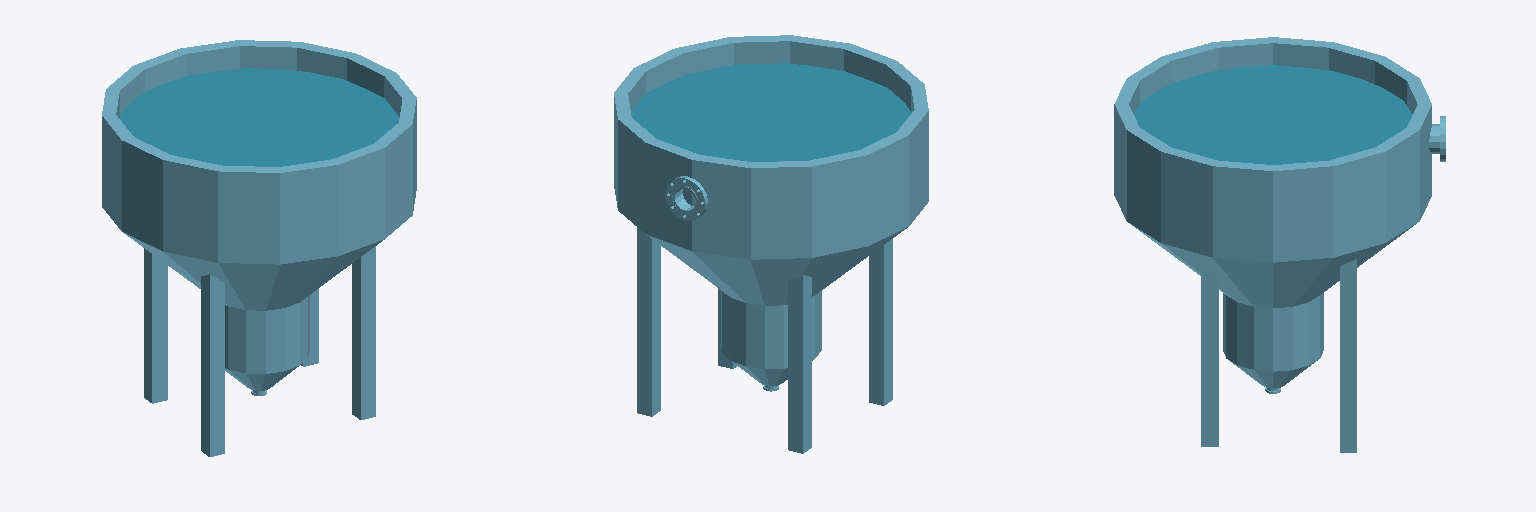
File: rotary_settling_basin.obj
The picture shows the model from 3 angles: view 1: azimuth 30°, elevation 25°; view 2: azimuth 150°, elevation 25°; view 3: azimuth 270°, elevation 25°; orthographic projection.
Parts seen in each view (by area): view 1: __, ___.2, ___.3, ___.1, ___; view 2: __, ___, ___.1, ___.2, __.2; view 3: __, ___, ___.3.
Boxes of the visible parts, <box> form: __: <box>102,40,416,395</box>; ___.2: <box>201,274,224,456</box>; ___.3: <box>352,246,375,419</box>; ___.1: <box>144,248,167,403</box>; ___: <box>301,289,318,366</box>; __: <box>614,35,928,391</box>; ___: <box>637,227,660,416</box>; ___.1: <box>788,275,811,453</box>; ___.2: <box>869,239,892,405</box>; __.2: <box>665,176,707,220</box>; __: <box>1114,37,1439,393</box>; ___: <box>1340,259,1356,452</box>; ___.3: <box>1201,268,1218,446</box>.
Size of the model in its own units: 745 by 786 by 776.